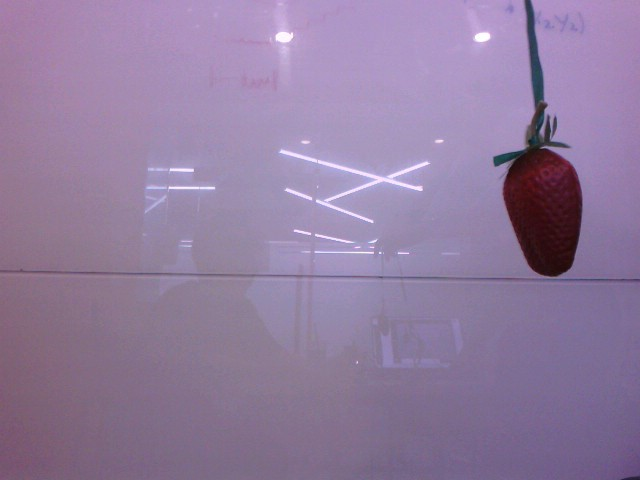strawberry: (497, 132, 584, 276)
